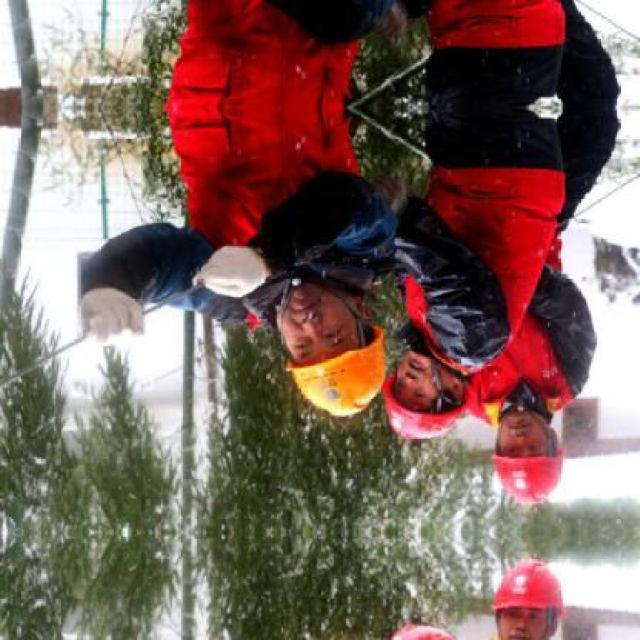safetyhelmet: (287, 326, 386, 415), (384, 373, 467, 438), (493, 447, 564, 503)
